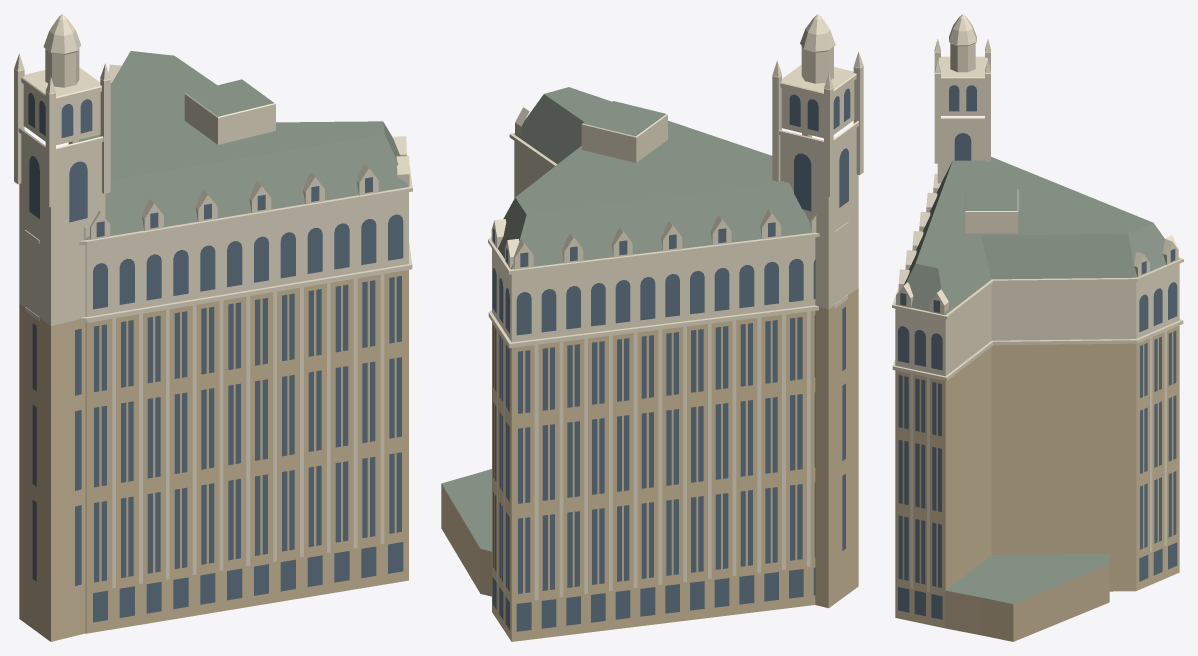
Rendered from sat-emily-morgan-hotel.glb.
3 renders of one model, left to right at view 1: azimuth 30°, elevation 25°; view 2: azimuth 150°, elevation 25°; view 3: azimuth 270°, elevation 25°, orthographic. The views are drawn at different scales.
Visible parts, largest first — view 1: Emily Morgan Hotel; view 2: Emily Morgan Hotel; view 3: Emily Morgan Hotel.
Boxes of the visible parts, x1=… form: Emily Morgan Hotel: x1=14, y1=14, x2=412, y2=641; Emily Morgan Hotel: x1=441, y1=14, x2=863, y2=641; Emily Morgan Hotel: x1=892, y1=14, x2=1183, y2=641.
Size of the model in its own units: 48 by 70.5 by 38.38.
